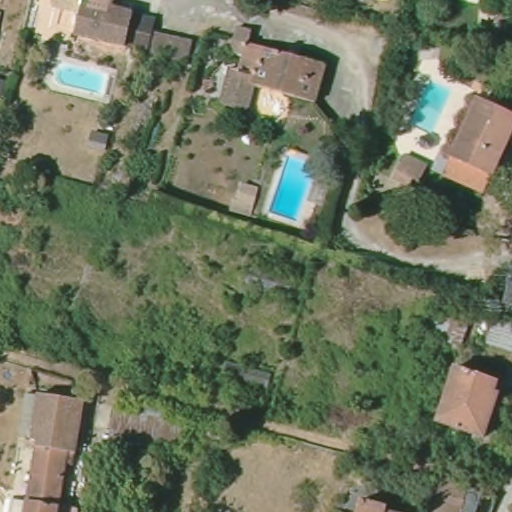pool: (264, 148, 325, 227), (45, 53, 119, 101), (402, 79, 457, 137)
